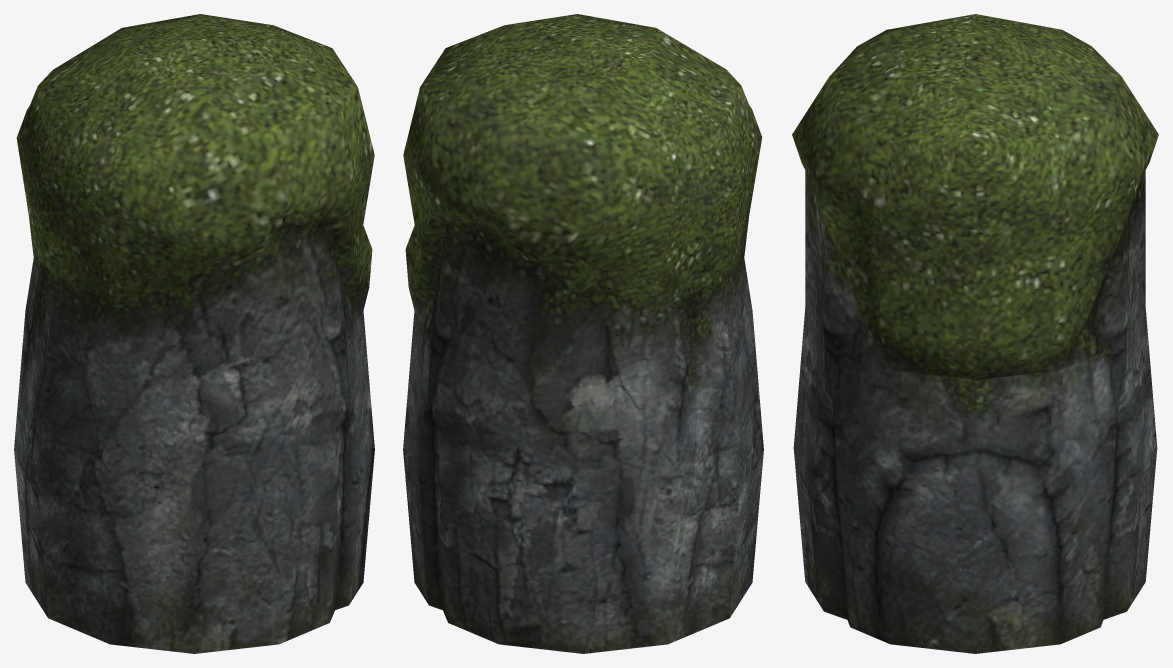
The model's file is moss_rock_03.glb.
The picture shows the model from 3 angles, left to right: view 1: azimuth 30°, elevation 25°; view 2: azimuth 150°, elevation 25°; view 3: azimuth 270°, elevation 25°; orthographic projection.
Parts seen in each view (by area): view 1: objMoss_rock03; view 2: objMoss_rock03; view 3: objMoss_rock03.
Boxes of the visible parts, bbox=[...] form: objMoss_rock03: bbox=[14, 14, 374, 653]; objMoss_rock03: bbox=[403, 14, 763, 653]; objMoss_rock03: bbox=[792, 14, 1158, 653].
Bounding box in the file's own units: 2.65 × 4.3 × 2.62.
Materials: 1 (1 with a texture image).
